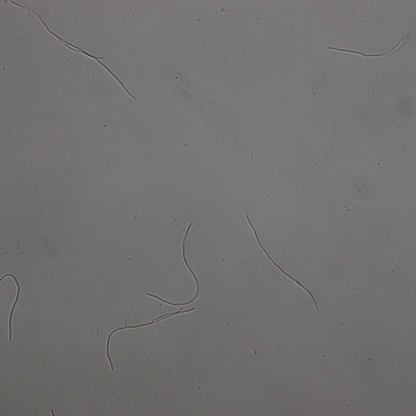Sensitive: (247, 216, 319, 312), (9, 1, 107, 59), (106, 309, 196, 369), (146, 223, 200, 307), (60, 42, 134, 97), (327, 32, 405, 58), (1, 273, 22, 342)
